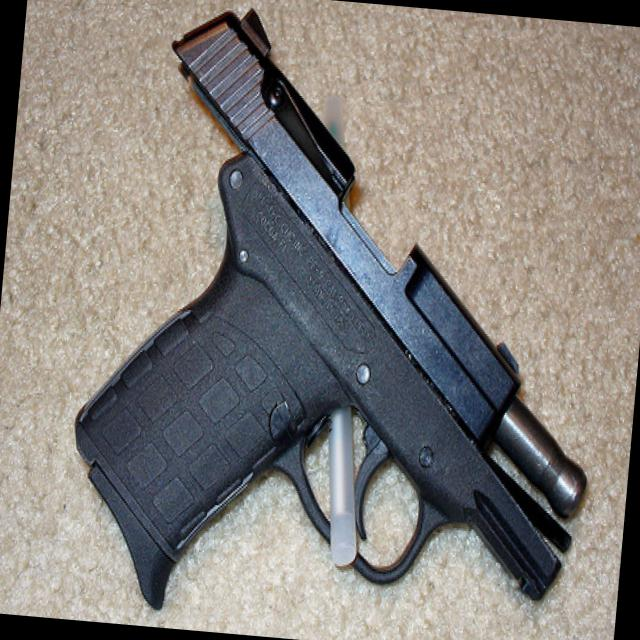handgun: (44, 0, 625, 634)
